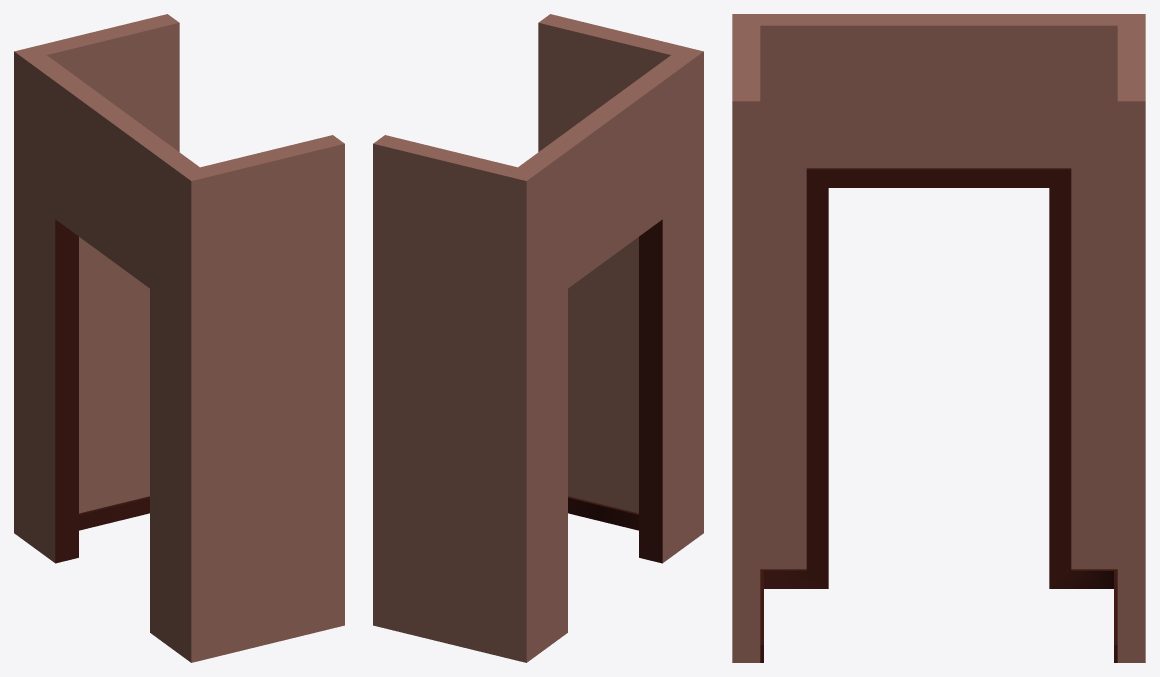
Rendered from T_PorteAscenseur_02.fbx.
The picture shows the model from 3 angles, left to right: view 1: azimuth 30°, elevation 25°; view 2: azimuth 150°, elevation 25°; view 3: azimuth 270°, elevation 25°; orthographic projection. The views are drawn at different scales.
Parts seen in each view (by area): view 1: T_PorteAscenseur_02; view 2: T_PorteAscenseur_02; view 3: T_PorteAscenseur_02.
Boxes of the visible parts, x1,y1,x2,y2 form: T_PorteAscenseur_02: (14, 14, 344, 662); T_PorteAscenseur_02: (373, 14, 703, 662); T_PorteAscenseur_02: (732, 14, 1145, 662).
Size of the model in its own units: 100 by 300 by 200.
